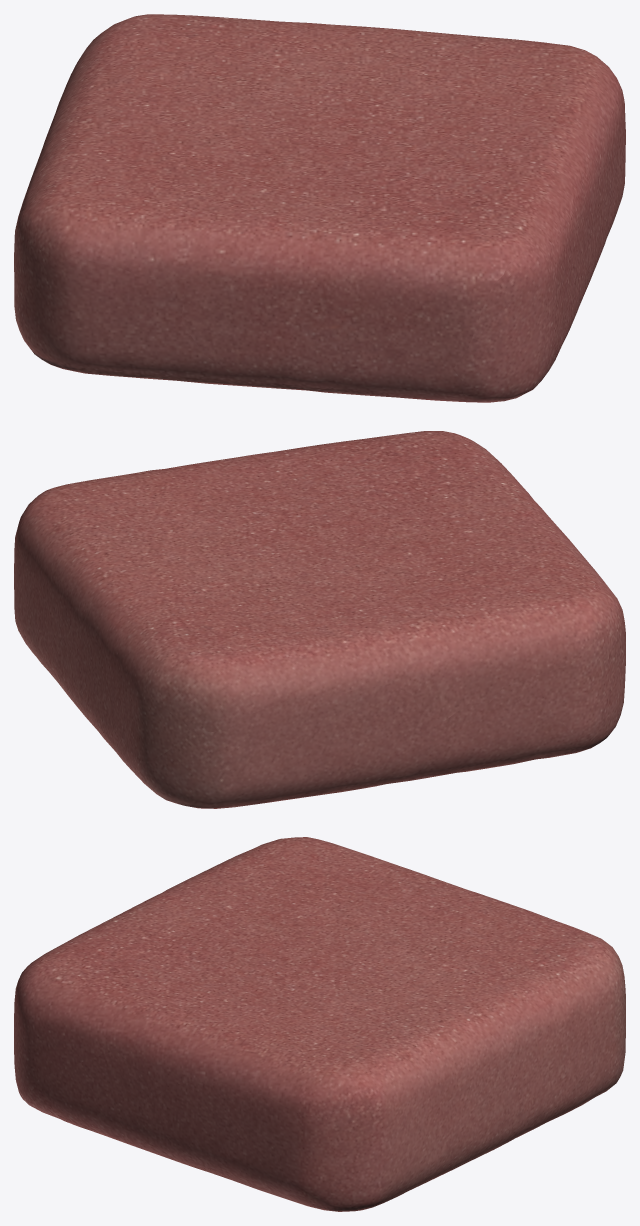
The model's file is GumdropPlatform.glb.
3 renders of one model, top to bottom at view 1: azimuth 30°, elevation 25°; view 2: azimuth 150°, elevation 25°; view 3: azimuth 270°, elevation 25°, orthographic. The views are drawn at different scales.
Parts seen in each view (by area): view 1: input; view 2: input; view 3: input.
Boxes of the visible parts, <box> form: input: <box>14,14,625,402</box>; input: <box>14,431,625,808</box>; input: <box>14,837,625,1211</box>.
Bounding box in the file's own units: 9.96 × 2.51 × 10.
Materials: 1 (1 with a texture image).
